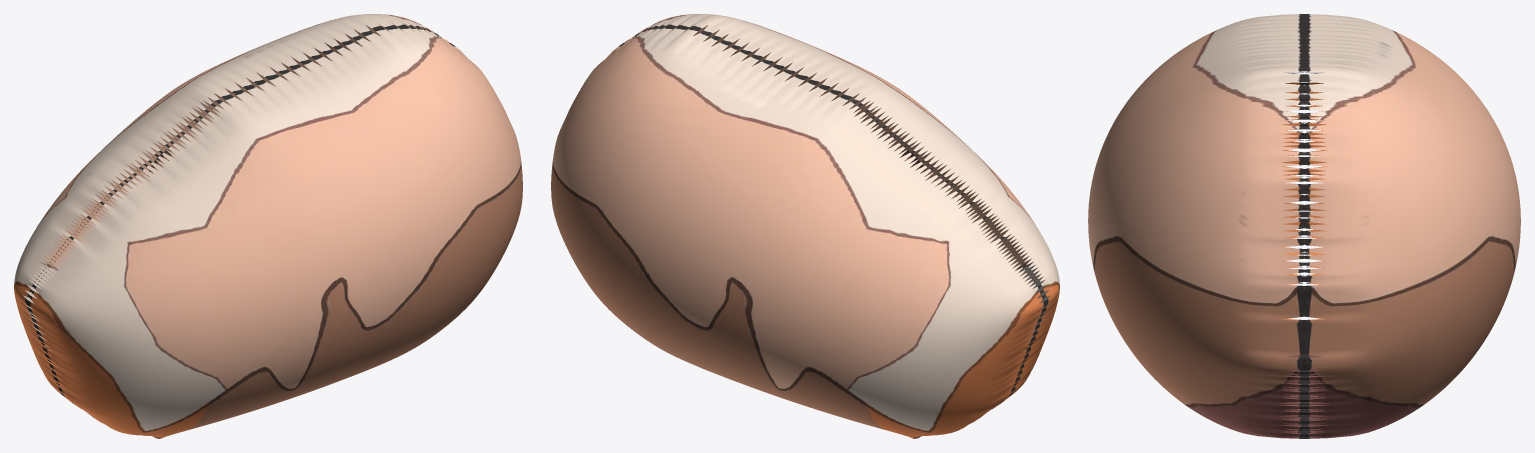
File: angular_boulder.glb
3 views of the same model, side by side, from view 1: azimuth 30°, elevation 25°; view 2: azimuth 150°, elevation 25°; view 3: azimuth 270°, elevation 25° (orthographic). The views are drawn at different scales.
Visible parts, largest first — view 1: angular_boulder; view 2: angular_boulder; view 3: angular_boulder.
Boxes of the visible parts, box(x1,y1,x2,y2) form: angular_boulder: box(14, 14, 522, 438); angular_boulder: box(551, 14, 1059, 438); angular_boulder: box(1088, 14, 1520, 438).
Bounding box in the file's own units: 0.9889 × 0.6671 × 0.6397.
1 material, 1 textured.
